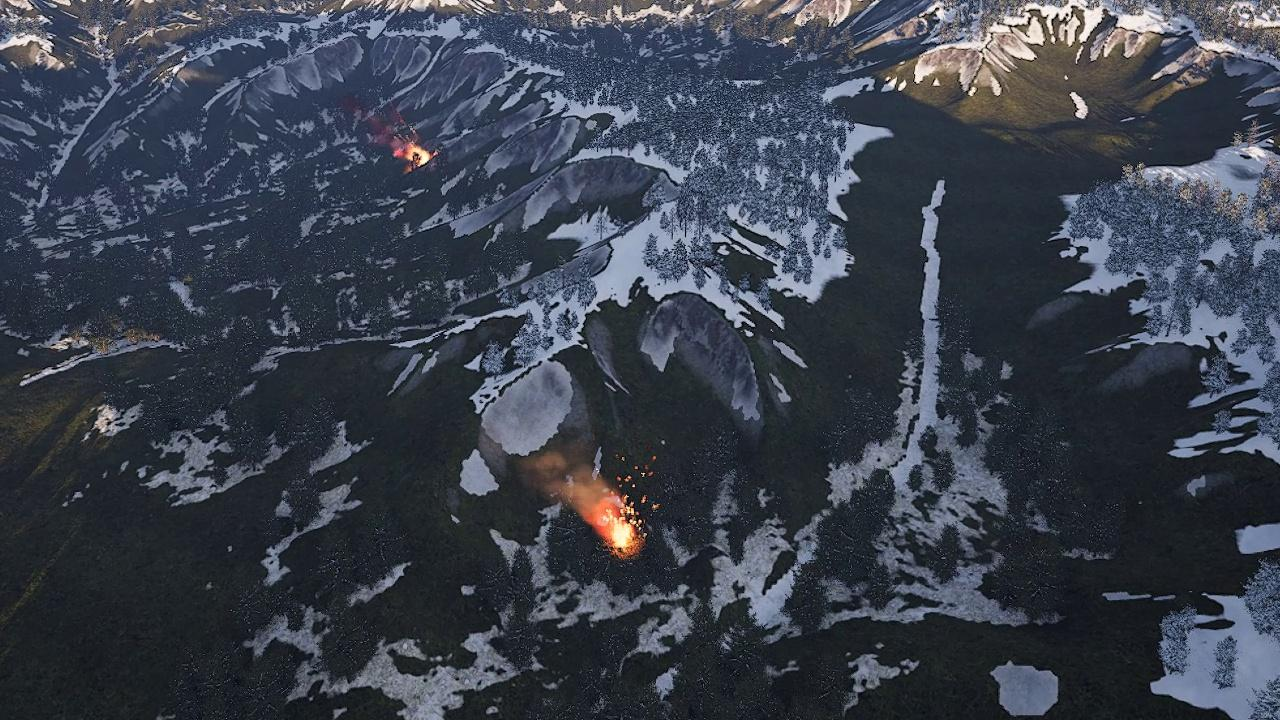fire: (595, 498, 643, 555), (400, 143, 434, 169)
smoke: (528, 446, 625, 527), (349, 92, 416, 146)
